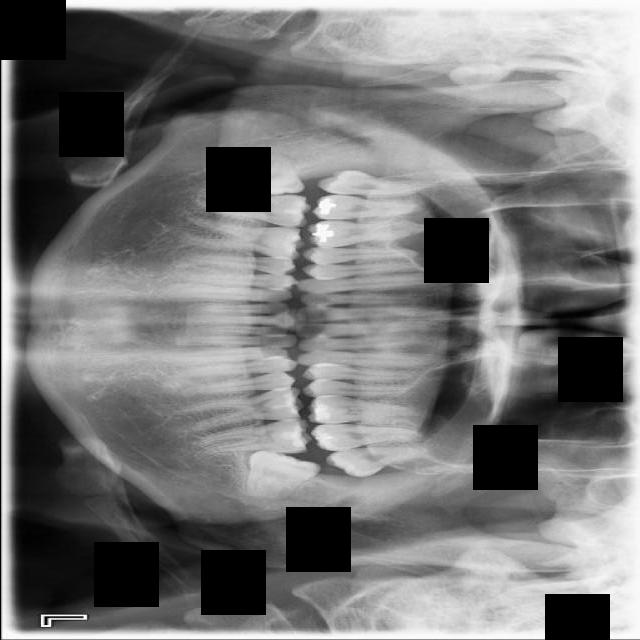3M ESPE Implant: (315, 168, 425, 198)
52: (257, 386, 305, 425), (265, 418, 312, 454), (308, 422, 357, 453), (306, 219, 352, 250), (306, 395, 351, 425), (310, 193, 356, 221)
73: (26, 618, 34, 624)
BioHorizons Implant: (309, 423, 427, 452)
BioLife Implant: (325, 445, 427, 479)
Biomet 3i Implant: (243, 446, 321, 507)
Blue Sky Bio Implant: (191, 417, 312, 459)
Caries: (310, 195, 426, 221)
Implant: (200, 194, 311, 229)
Keystone Dental Implant: (232, 152, 304, 197)
